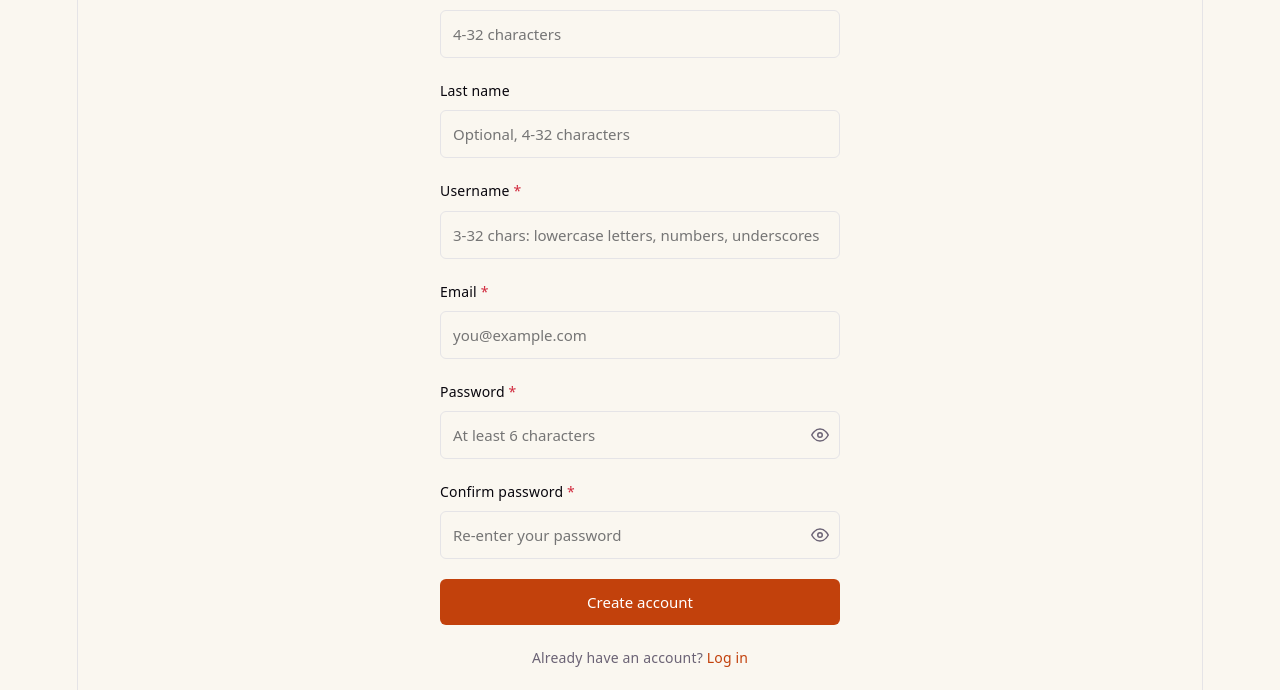
Test: Register › shows field errors and blocks submission for invalid input
(page scrolled)
Step 1. Click the button "Create account" → (640, 602), box [440,579,840,625]
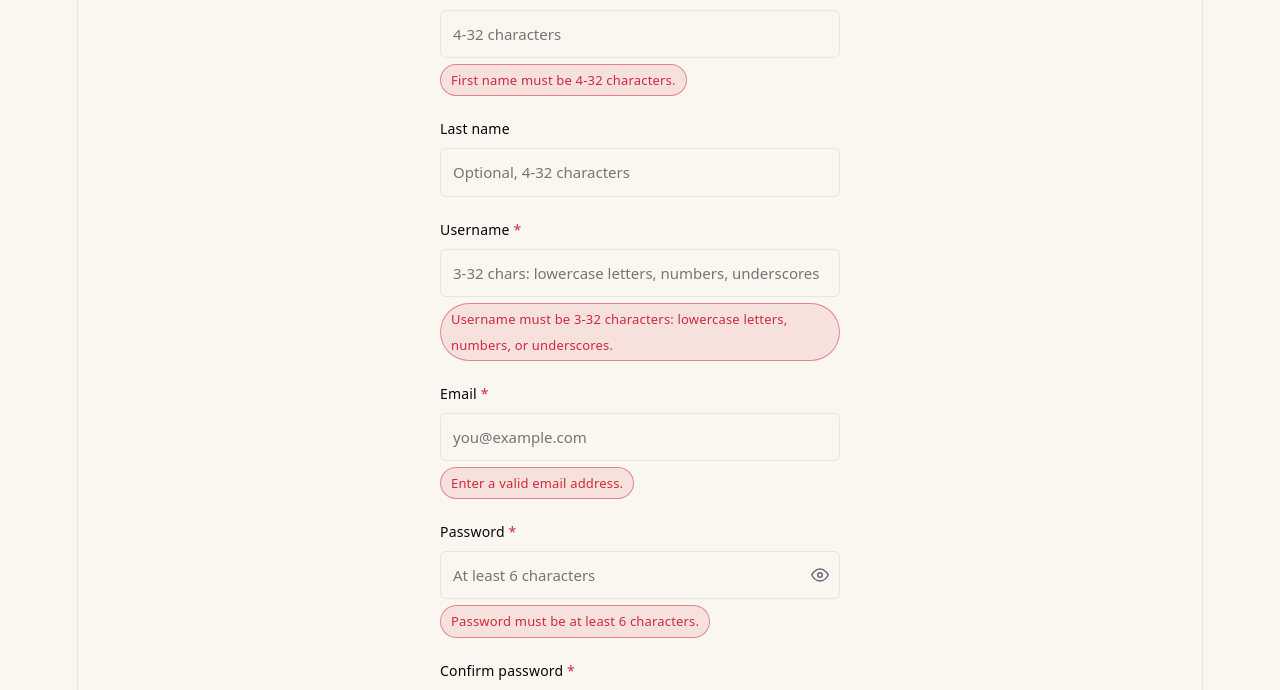
Check: the text "First name must be 4-32 characters." is shown, box [440,64,687,96]
